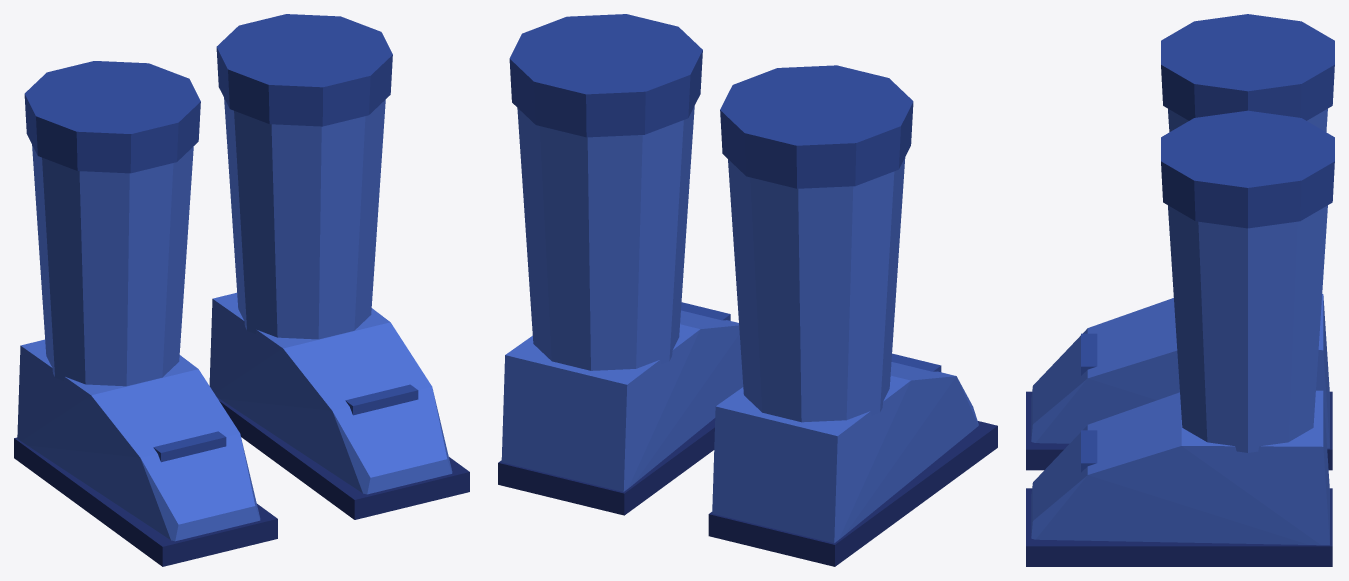
The model's file is drop_mithril_boots.glb.
3 renders of one model, left to right at view 1: azimuth 30°, elevation 25°; view 2: azimuth 150°, elevation 25°; view 3: azimuth 270°, elevation 25°, orthographic. The views are drawn at different scales.
Parts seen in each view (by area): view 1: drop_mithril_boots; view 2: drop_mithril_boots; view 3: drop_mithril_boots.
Part boxes in pixels (left/top/right/bottom): drop_mithril_boots: left=14, top=14, right=469, bottom=566; drop_mithril_boots: left=498, top=14, right=997, bottom=566; drop_mithril_boots: left=1026, top=14, right=1334, bottom=566.
Size of the model in its own units: 0.216 by 0.225 by 0.1621.
